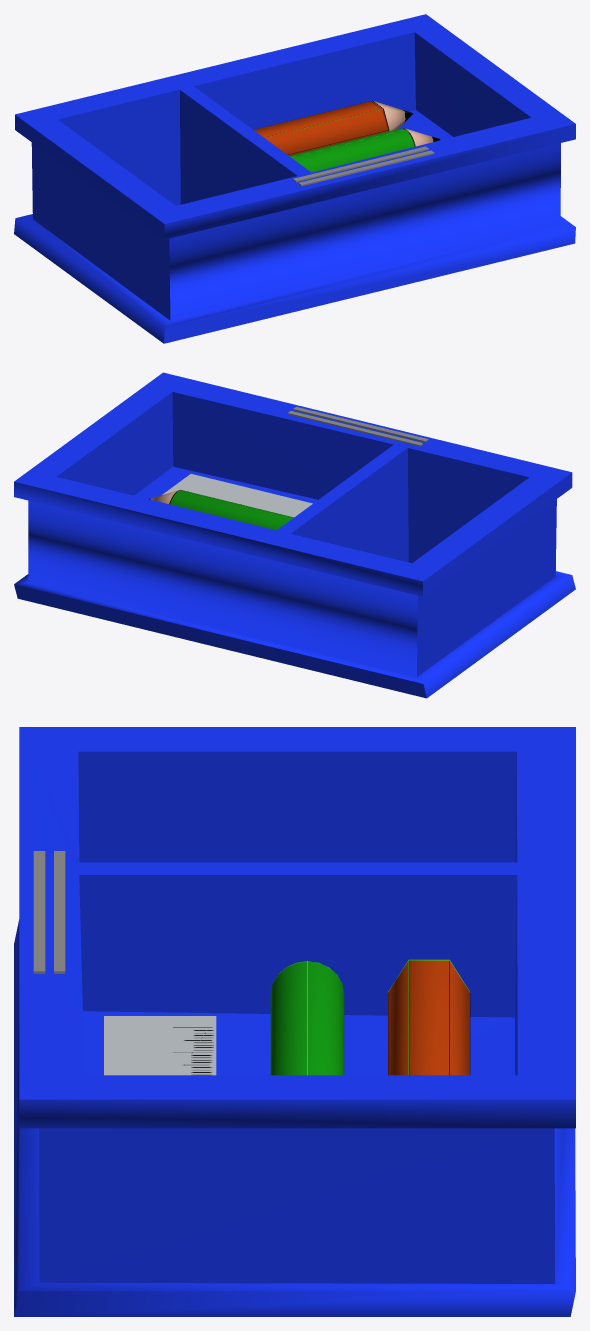
The model's file is PencilCase_Box.FBX.
3 renders of one model, top to bottom at view 1: azimuth 30°, elevation 25°; view 2: azimuth 150°, elevation 25°; view 3: azimuth 270°, elevation 25°, orthographic. The views are drawn at different scales.
Parts seen in each view (by area): view 1: Case, Pencil1, Pencil2, Magnet1, Magnet2; view 2: Case, Ruler, Pencil2, Magnet1, Magnet2; view 3: Case, Pencil1, Pencil2, Ruler, Magnet1, Magnet2.
Boxes of the visible parts, x1,y1,x2,y2 form: Case: (14, 14, 575, 343); Pencil1: (253, 100, 413, 155); Pencil2: (289, 128, 440, 172); Magnet1: (298, 150, 434, 186); Magnet2: (293, 146, 428, 182); Case: (14, 372, 575, 698); Ruler: (162, 474, 312, 517); Pencil2: (149, 490, 293, 530); Magnet1: (293, 407, 428, 442); Magnet2: (287, 411, 422, 446); Case: (14, 727, 575, 1316); Pencil1: (388, 959, 470, 1075); Pencil2: (270, 961, 344, 1075); Ruler: (104, 1016, 216, 1075); Magnet1: (33, 851, 45, 973); Magnet2: (54, 851, 65, 973).
Size of the model in its own units: 155 by 43.5 by 98.56.
9 materials, 3 textured.
